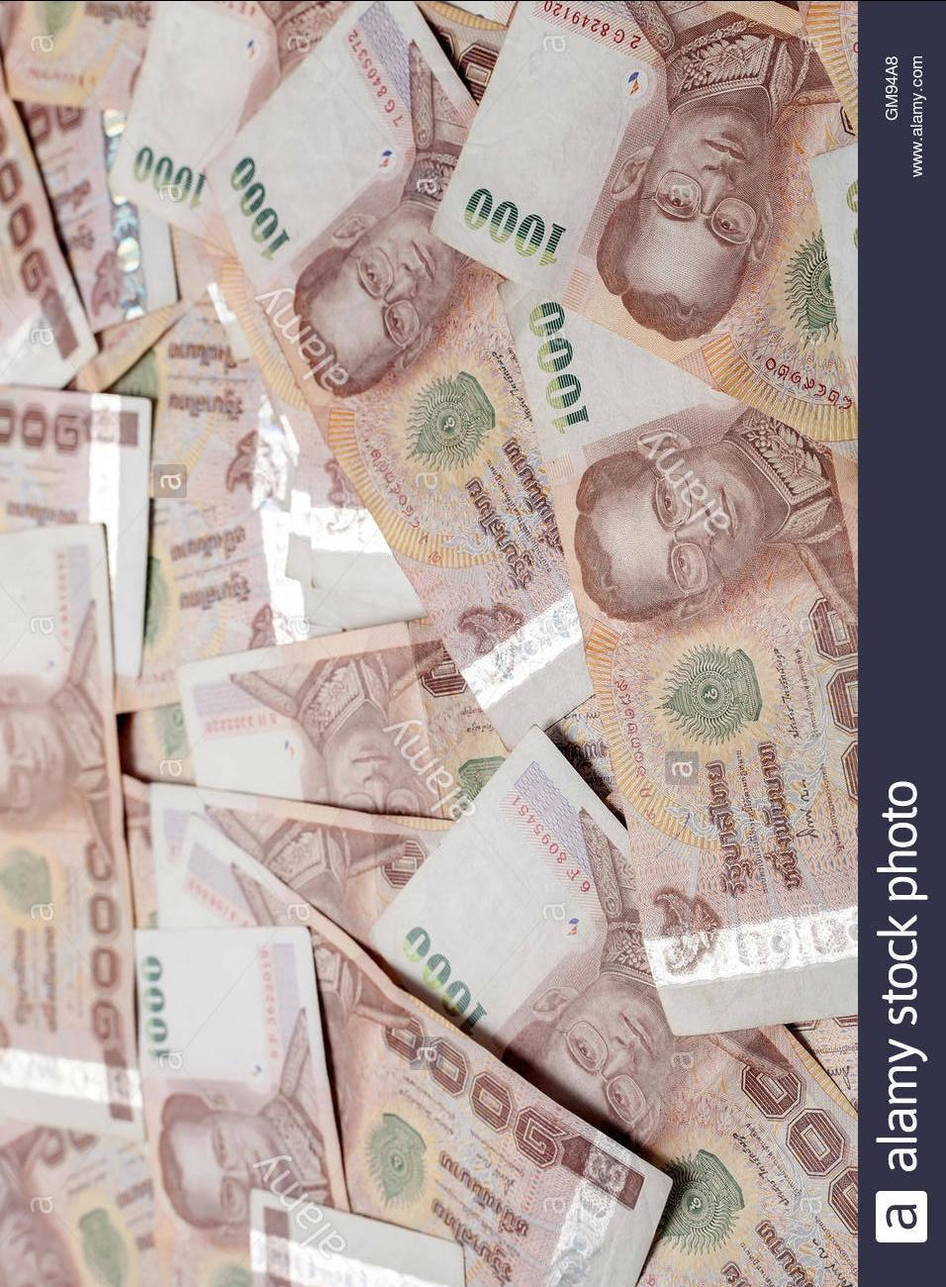1000BahtTai: (503, 289, 860, 1030)
